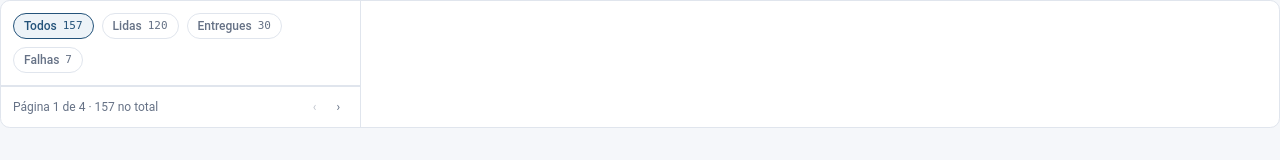
Test: EventsExplorer filter pagination › returns to page one when changing the active filter
The width and height of the screenshot is (1280, 160).
Click the button "›" at [338, 107], box [328,95,348,119]
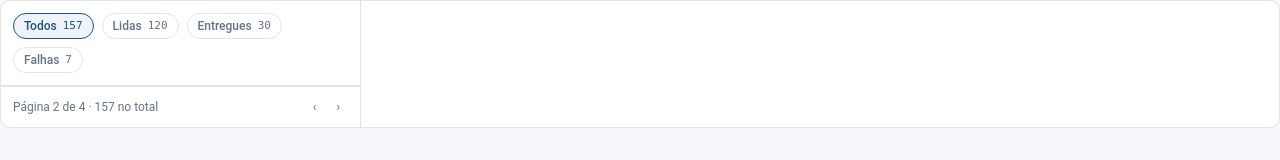
Now the text "Página 2 de 4 · 157 no total" is shown, box [13,99,158,115]
Click the button "Lidas 120" at [140, 26], box [102,13,178,39]
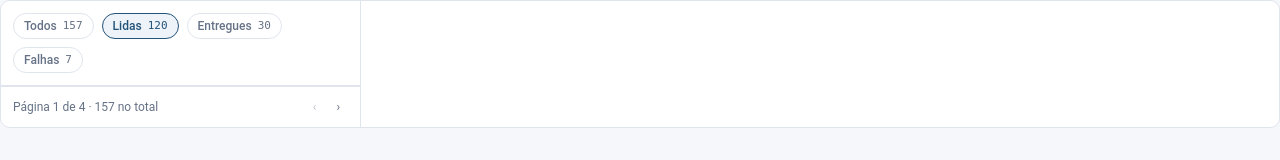
Now the text "Página 1 de 4 · 157 no total" is shown, box [13,99,158,115]
